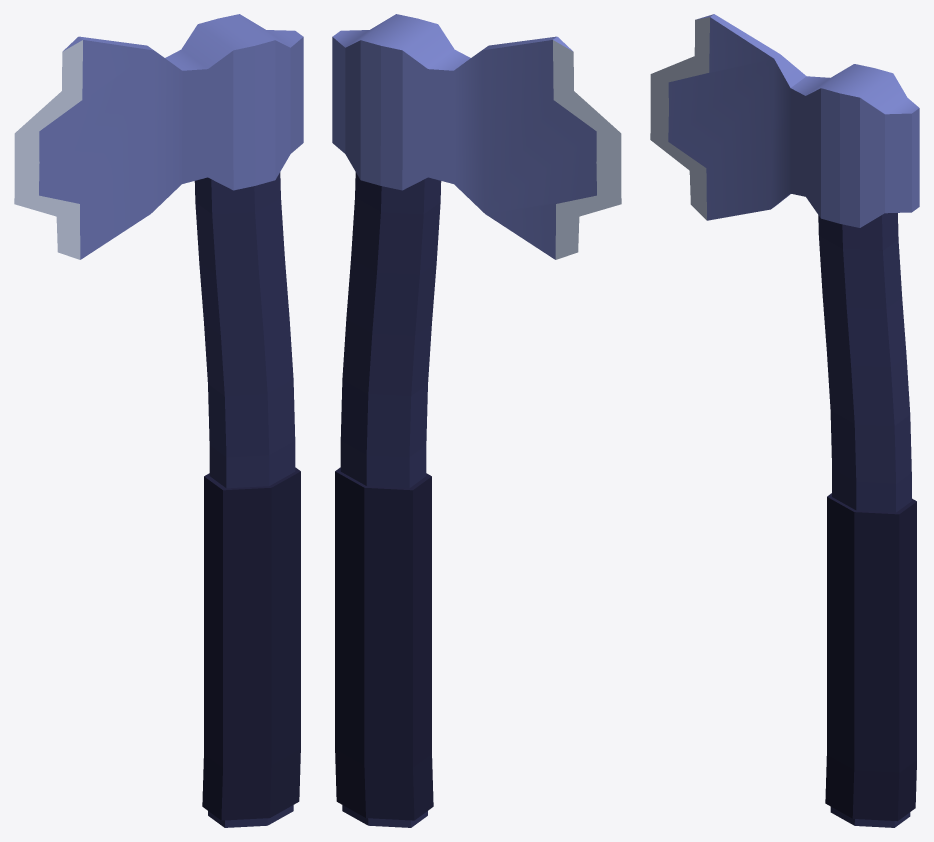
The model's file is axe_mana_steal.fbx.
The picture shows the model from 3 angles, left to right: view 1: azimuth 30°, elevation 25°; view 2: azimuth 150°, elevation 25°; view 3: azimuth 330°, elevation 25°; orthographic projection. The views are drawn at different scales.
Parts seen in each view (by area): view 1: Handle.006, Blade.006; view 2: Handle.006, Blade.006; view 3: Handle.006, Blade.006.
Boxes of the visible parts, x1,y1,x2,y2 form: Handle.006: (194, 172, 300, 827); Blade.006: (14, 14, 303, 259); Handle.006: (335, 172, 441, 827); Blade.006: (332, 14, 621, 259); Handle.006: (818, 213, 916, 827); Blade.006: (650, 14, 919, 227).
Bounding box in the file's own units: 0.0513 × 0.6052 × 0.221.
